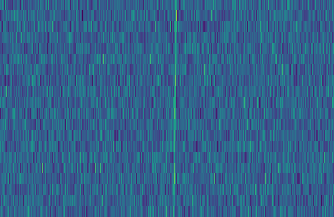signal: (168, 0, 180, 217)
